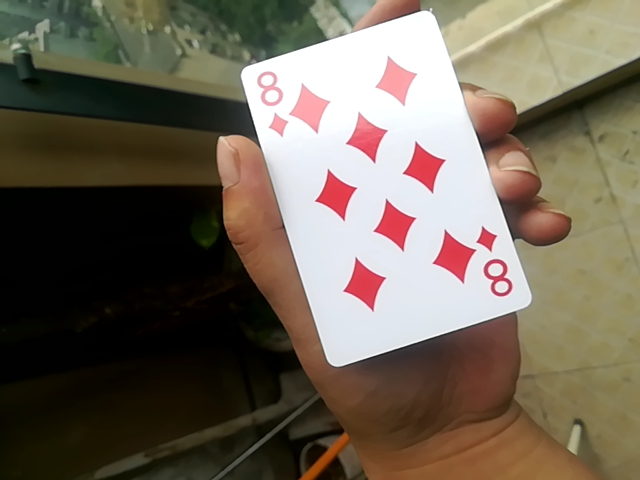fk 8: (244, 3, 523, 371)
